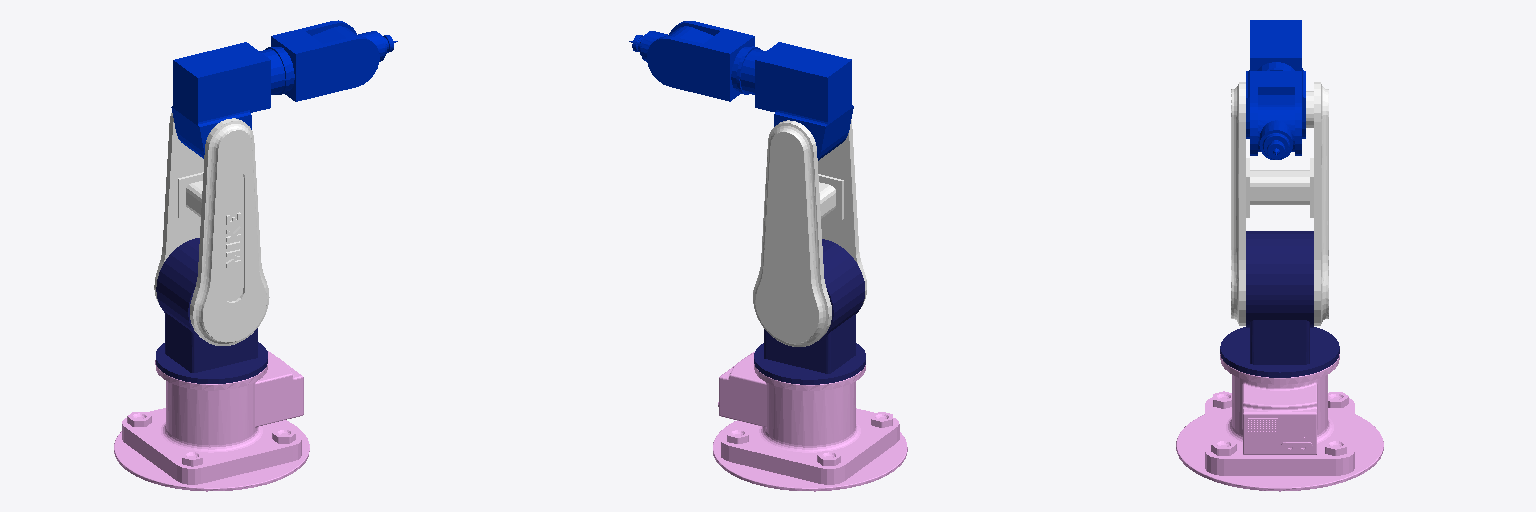
The robot description file, URDF, robot "robot_arm_urdf":
<?xml version="1.0" encoding="utf-8"?>
<robot
  name="robot_arm_urdf">
  <link name="world"/>
<joint name="base_joint" type="fixed">
  <parent link="world"/>
  <child link="base_link"/>
  <origin rpy="0 0 0" xyz="0.0 0.0 0.17"/>
</joint>

  <link
    name="base_link">
    <inertial>
      <origin
        xyz="0.031662 -1.6593E-05 0.093316"
        rpy="0 0 0" />
      <mass
        value="20.485" />
      <inertia
        ixx="0.34723"
        ixy="7.3552E-05"
        ixz="-0.042273"
        iyy="0.43484"
        iyz="6.6575E-05"
        izz="0.51047" />
    </inertial>
    <visual>
      <origin
        xyz="0 0 0"
        rpy="0 0 0" />
      <geometry>
        <mesh
          filename="package://robot_arm_urdf/meshes/base_link.dae" />
      </geometry>
      <material
        name="">
        <color
          rgba="1 0.75294 1 1" />
      </material>
    </visual>
    <collision>
      <origin
        xyz="0 0 0"
        rpy="0 0 0" />
      <geometry>
        <mesh
          filename="package://robot_arm_urdf/meshes/base_link.dae" />
      </geometry>
    </collision>
  </link>
  <link
    name="link_1">
    <inertial>
      <origin
        xyz="-1.5626E-10 -0.12292 2.8851E-17"
        rpy="0 0 0" />
      <mass
        value="14.805" />
      <inertia
        ixx="0.28701"
        ixy="-1.2939E-09"
        ixz="1.283E-09"
        iyy="0.11168"
        iyz="-7.7555E-18"
        izz="0.31422" />
    </inertial>
    <visual>
      <origin
        xyz="0 0 0"
        rpy="0 0 0" />
      <geometry>
        <mesh
          filename="package://robot_arm_urdf/meshes/link_1.dae" />
      </geometry>
      <material
        name="">
        <color
          rgba="0.16078 0.16863 0.45098 0.4" />
      </material>
    </visual>
    <collision>
      <origin
        xyz="0 0 0"
        rpy="0 0 0" />
      <geometry>
        <mesh
          filename="package://robot_arm_urdf/meshes/link_1.dae" />
      </geometry>
    </collision>
  </link>
  <joint
    name="joint_1"
    type="revolute">
    <origin
      xyz="0 0 0.496"
      rpy="1.5708 0 0" />
    <parent
      link="base_link" />
    <child
      link="link_1" />
    <axis
      xyz="0 1 0" />
    <limit
      lower="-3.14"
      upper="3.14"
      effort="96.8"
      velocity="3" />
  </joint>
  <link
    name="link_2">
    <inertial>
      <origin
        xyz="-0.18788 1.414E-05 -0.0021187"
        rpy="0 0 0" />
      <mass
        value="14.929" />
      <inertia
        ixx="0.15396"
        ixy="8.6361E-06"
        ixz="-0.0012193"
        iyy="0.7156"
        iyz="-2.6881E-05"
        izz="0.62367" />
    </inertial>
    <visual>
      <origin
        xyz="0 0 0"
        rpy="0 0 0" />
      <geometry>
        <mesh
          filename="package://robot_arm_urdf/meshes/link_2.dae" />
      </geometry>
      <material
        name="">
        <color
          rgba="1 1 1 0.9" />
      </material>
    </visual>
    <collision>
      <origin
        xyz="0 0 0"
        rpy="0 0 0" />
      <geometry>
        <mesh
          filename="package://robot_arm_urdf/meshes/link_2.dae" />
      </geometry>
    </collision>
  </link>
  <joint
    name="joint_2"
    type="revolute">
    <origin
      xyz="0 0 0"
      rpy="0 0 -1.5708" />
    <parent
      link="link_1" />
    <child
      link="link_2" />
    <axis
      xyz="0 0 1" />
    <limit
      lower="-1.57"
      upper="1.57"
      effort="90"
      velocity="3.5" />
  </joint>
  <link
    name="link_3">
    <inertial>
      <origin
        xyz="0.12117 -0.13618 0.01"
        rpy="0 0 0" />
      <mass
        value="12.293" />
      <inertia
        ixx="0.34515"
        ixy="0.040693"
        ixz="-2.1478E-17"
        iyy="0.076693"
        iyz="1.7774E-16"
        izz="0.37813" />
    </inertial>
    <visual>
      <origin
        xyz="0 0 0"
        rpy="0 0 0" />
      <geometry>
        <mesh
          filename="package://robot_arm_urdf/meshes/link_3.dae" />
      </geometry>
      <material
        name="">
        <color
          rgba="0.0078431 0.23922 0.82353 1" />
      </material>
    </visual>
    <collision>
      <origin
        xyz="0 0 0"
        rpy="0 0 0" />
      <geometry>
        <mesh
          filename="package://robot_arm_urdf/meshes/link_3.dae" />
      </geometry>
    </collision>
  </link>
  <joint
    name="joint_3"
    type="revolute">
    <origin
      xyz="-0.5 0 0"
      rpy="0 0 3.1416" />
    <parent
      link="link_2" />
    <child
      link="link_3" />
    <axis
      xyz="0 0 1" />
    <limit
      lower="-0.7854"
      upper="2.3562"
      effort="44.8"
      velocity="4" />
  </joint>
  <link
    name="link_4">
    <inertial>
      <origin
        xyz="7.1522E-05 0.04925 6.1596E-08"
        rpy="0 0 0" />
      <mass
        value="2.2635" />
      <inertia
        ixx="0.019962"
        ixy="-2.3083E-05"
        ixz="-3.7933E-09"
        iyy="0.0040787"
        iyz="6.4088E-09"
        izz="0.020598" />
    </inertial>
    <visual>
      <origin
        xyz="0 0 0"
        rpy="0 0 0" />
      <geometry>
        <mesh
          filename="package://robot_arm_urdf/meshes/link_4.dae" />
      </geometry>
      <material
        name="PLA">
        <color
          rgba="0.0078431 0.23922 0.82353 1" />
      </material>
    </visual>
    <collision>
      <origin
        xyz="0 0 0"
        rpy="0 0 0" />
      <geometry>
        <mesh
          filename="package://robot_arm_urdf/meshes/link_4.dae" />
      </geometry>
    </collision>
  </link>
  <joint
    name="joint_4"
    type="revolute">
    <origin
      xyz="0.145 -0.42746 0.01"
      rpy="0 0 0" />
    <parent
      link="link_3" />
    <child
      link="link_4" />
    <axis
      xyz="0 0 1" />
    <limit
      lower="-1.57"
      upper="1.57"
      effort="17.6"
      velocity="5" />
  </joint>

    <gazebo>
    <plugin name="gazebo_ros_control" filename="libgazebo_ros_control.so">
      <robotNamespace>/</robotNamespace>
    </plugin>
  </gazebo>

  <!-- Transmisiones -->
  <transmission name="trans_joint_1">
    <type>transmission_interface/SimpleTransmission</type>
    <joint name="joint_1">
      <hardwareInterface>hardware_interface/PositionJointInterface</hardwareInterface>
    </joint>
    <actuator name="motor_joint_1">
      <hardwareInterface>hardware_interface/PositionJointInterface</hardwareInterface>
      <mechanicalReduction>1</mechanicalReduction>
    </actuator>
  </transmission>

  <transmission name="trans_joint_2">
    <type>transmission_interface/SimpleTransmission</type>
    <joint name="joint_2">
      <hardwareInterface>hardware_interface/PositionJointInterface</hardwareInterface>
    </joint>
    <actuator name="motor_joint_2">
      <hardwareInterface>hardware_interface/PositionJointInterface</hardwareInterface>
      <mechanicalReduction>1</mechanicalReduction>
    </actuator>
  </transmission>

  <transmission name="trans_joint_3">
    <type>transmission_interface/SimpleTransmission</type>
    <joint name="joint_3">
      <hardwareInterface>hardware_interface/PositionJointInterface</hardwareInterface>
    </joint>
    <actuator name="motor_joint_3">
      <hardwareInterface>hardware_interface/PositionJointInterface</hardwareInterface>
      <mechanicalReduction>1</mechanicalReduction>
    </actuator>
  </transmission>

  <transmission name="trans_joint_4">
    <type>transmission_interface/SimpleTransmission</type>
    <joint name="joint_4">
      <hardwareInterface>hardware_interface/PositionJointInterface</hardwareInterface>
    </joint>
    <actuator name="motor_joint_4">
      <hardwareInterface>hardware_interface/PositionJointInterface</hardwareInterface>
      <mechanicalReduction>1</mechanicalReduction>
    </actuator>
  </transmission>

  <!-- Self Collision -->
  <gazebo reference="link_1"><selfCollide>true</selfCollide></gazebo>
  <gazebo reference="link_2"><selfCollide>true</selfCollide></gazebo>
  <gazebo reference="link_3"><selfCollide>true</selfCollide></gazebo>
  <gazebo reference="link_4"><selfCollide>true</selfCollide></gazebo>

</robot>

--- What the picture shows (computed from the rendered views, not written in the file) ---
3 views of the same robot in one strip: view 1: azimuth 30°, elevation 25°; view 2: azimuth 150°, elevation 25°; view 3: azimuth 270°, elevation 25° (orthographic).
Robot: robot_arm_urdf — 6 links, 5 joints (4 revolute, 1 fixed); root link world; default pose: all joints at 0.
Links seen in each view (by area): view 1: base_link, link_2, link_3, link_1, link_4; view 2: base_link, link_2, link_3, link_1, link_4; view 3: base_link, link_1, link_2, link_3, link_4.
Boxes of the visible links, x1,y1,x2,y2 form: base_link: (114,351,309,491); link_2: (154,113,269,345); link_3: (171,20,379,158); link_1: (156,238,267,383); link_4: (312,26,397,61); base_link: (713,352,907,491); link_2: (753,120,866,346); link_3: (647,21,853,160); link_1: (754,239,865,384); link_4: (629,26,713,61); base_link: (1176,354,1383,491); link_1: (1220,231,1339,377); link_2: (1231,82,1328,325); link_3: (1246,20,1305,155); link_4: (1258,95,1294,159).
Size in the robot's own frame: 0.8802 by 0.555 by 1.22 metres.
Meshes: 5 distinct files referenced, 5 mesh visuals loaded (5 Collada DAE).
